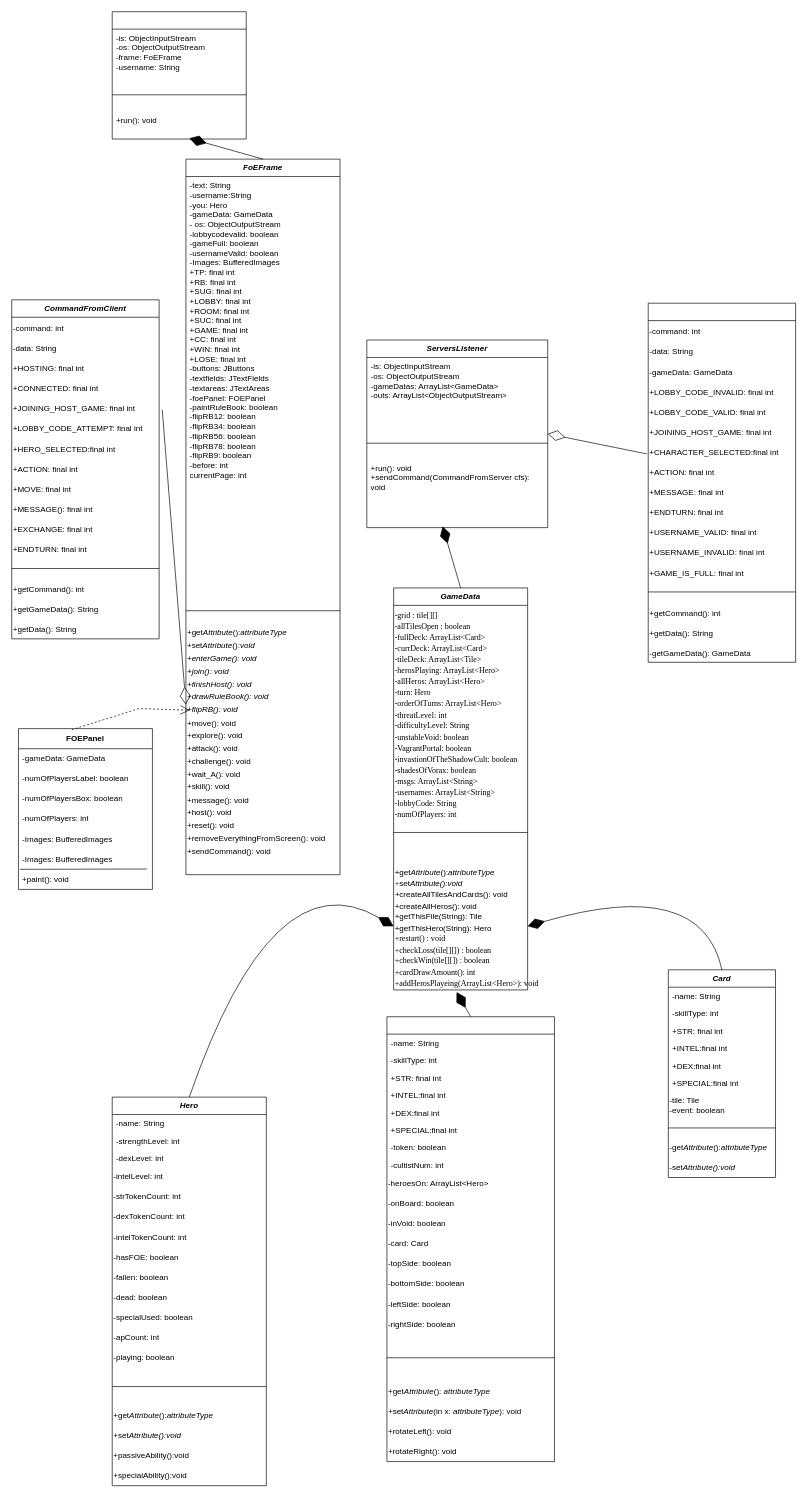
This 807x1497 diagram has some shape labels left out. Here are the shapes that lost their labels. From the top down, the box of each, then its label:
(112, 11, 246, 139): ClientsListener
(648, 303, 796, 662): CommandFromServer
(386, 1016, 554, 1462): Tile
